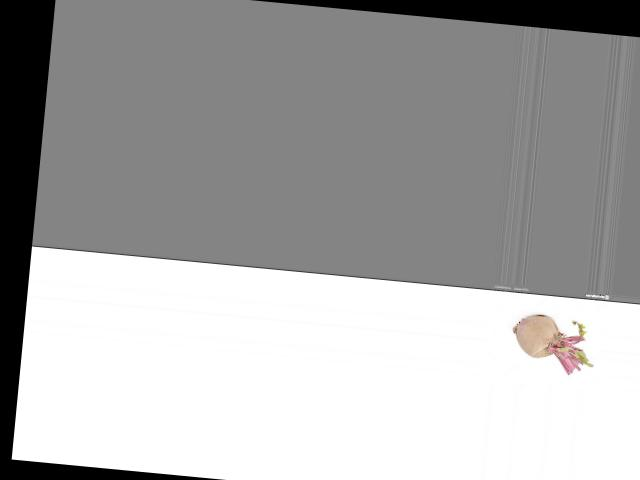beet: (508, 311, 597, 377)
